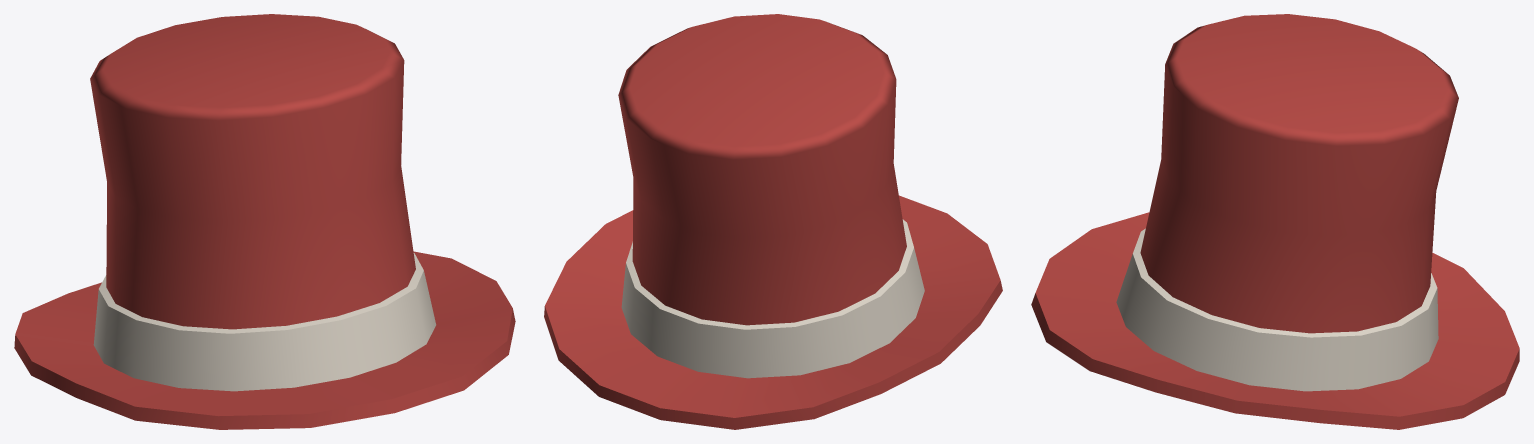
File: Hat_03_02.fbx
The picture shows the model from 3 angles, left to right: view 1: azimuth 30°, elevation 25°; view 2: azimuth 150°, elevation 25°; view 3: azimuth 270°, elevation 25°; orthographic projection. The views are drawn at different scales.
Visible parts, largest first — view 1: Hat_03_02; view 2: Hat_03_02; view 3: Hat_03_02.
Part boxes in pixels (x1=…): Hat_03_02: x1=14, y1=14, x2=515, y2=429; Hat_03_02: x1=544, y1=14, x2=1002, y2=429; Hat_03_02: x1=1031, y1=14, x2=1519, y2=429.
Size of the model in its own units: 51.45 by 37.17 by 54.23.
